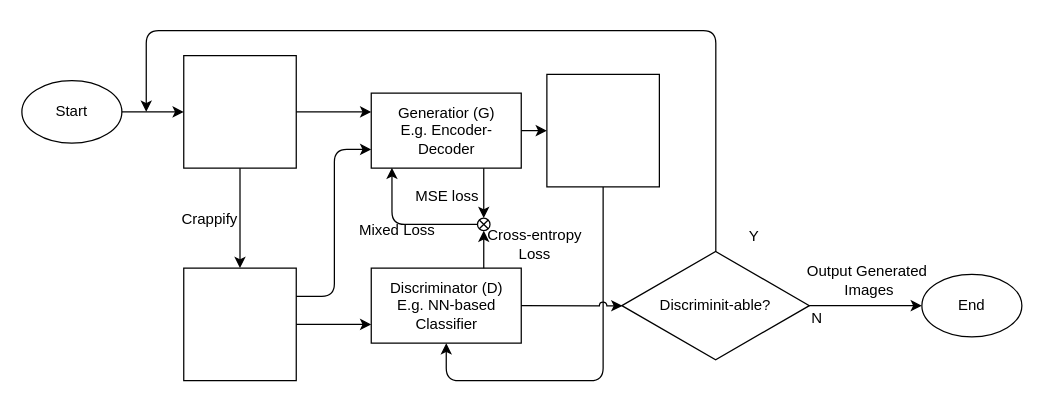
The diagram is 1044 pixels wide and 413 high, and some of its shapes have lost their labels. Here are the shapes that lost their labels. From the top down, the centre of each, then its label:
At (x=239, y=111): "Original Images (Signal)".
At (x=602, y=130): "Generated Images".
At (x=239, y=324): "Crapped or Polluted Images".
